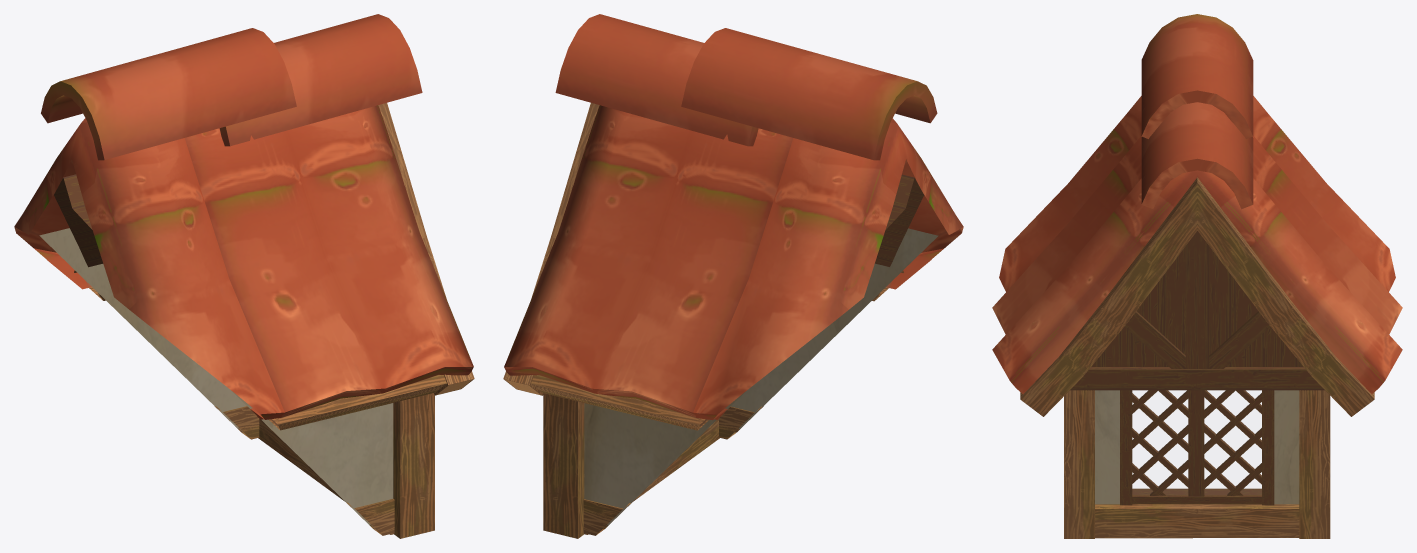
3 renders of one model, left to right at view 1: azimuth 30°, elevation 25°; view 2: azimuth 150°, elevation 25°; view 3: azimuth 270°, elevation 25°, orthographic. The views are drawn at different scales.
Parts seen in each view (by area): view 1: Roof_Dormer_RoundTile; view 2: Roof_Dormer_RoundTile; view 3: Roof_Dormer_RoundTile.
Boxes of the visible parts, <box> form: Roof_Dormer_RoundTile: <box>14,14,474,538</box>; Roof_Dormer_RoundTile: <box>503,14,963,538</box>; Roof_Dormer_RoundTile: <box>992,14,1402,538</box>.
Size of the model in its own units: 1.97 by 2.67 by 2.44.
4 materials, 3 textured.
